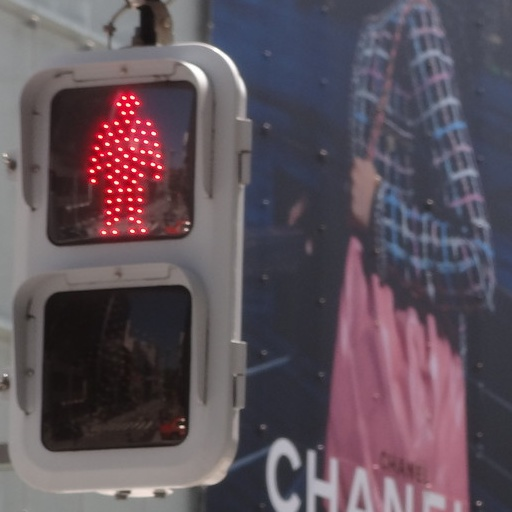Pedestrian_Signal_Red: (19, 53, 220, 468)
